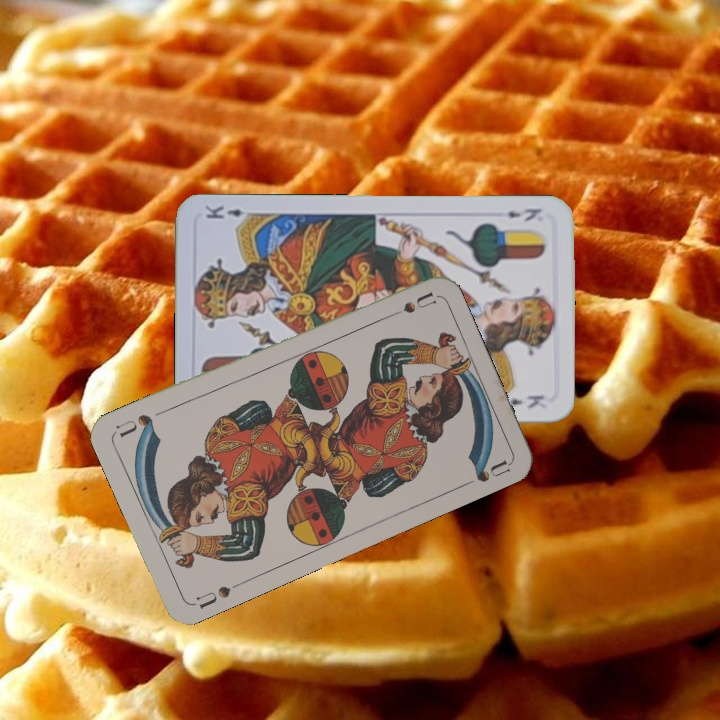EK: (503, 204, 544, 224)
SU: (380, 288, 438, 322), (192, 581, 233, 612)
